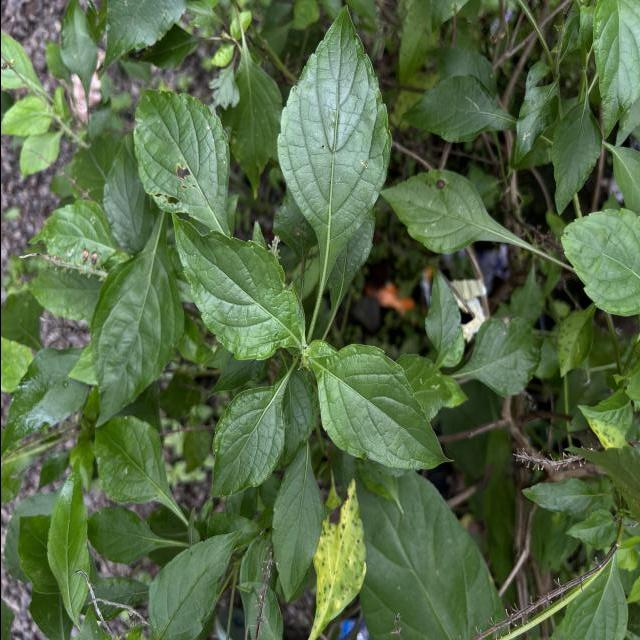Ocimum gratissimum: (272, 0, 394, 320), (84, 204, 186, 430), (168, 210, 309, 362), (306, 341, 456, 474), (131, 82, 231, 238), (376, 166, 540, 258), (146, 525, 247, 640), (206, 370, 294, 500), (268, 438, 326, 608), (556, 206, 640, 320), (398, 71, 519, 146), (546, 541, 630, 640), (584, 0, 640, 146), (44, 454, 90, 628)
